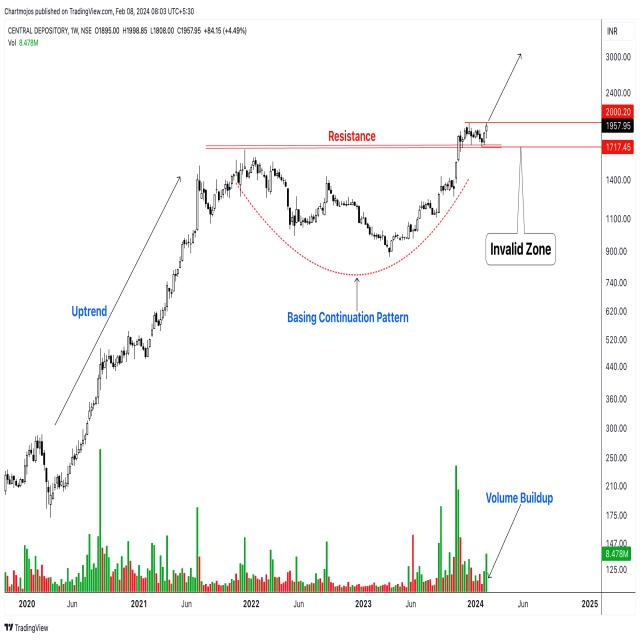Cup-and-handle: (230, 121, 488, 256)
